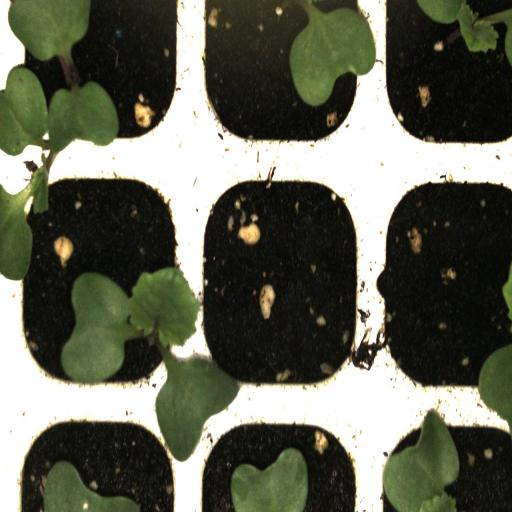Folha: (288, 0, 376, 108), (155, 357, 239, 462), (383, 414, 460, 512), (0, 167, 49, 281), (8, 0, 91, 62), (230, 447, 308, 512), (43, 461, 140, 512), (478, 344, 512, 426)
Germinacao: (12, 163, 189, 400), (8, 0, 190, 156)
